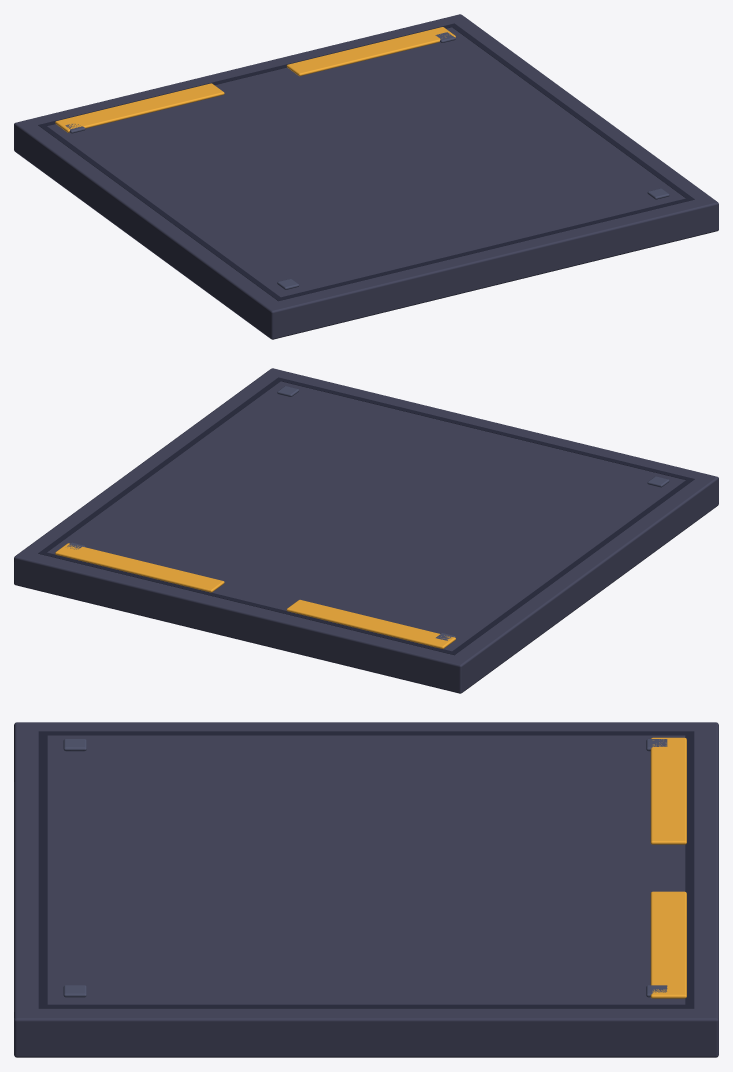
File: floor.plate.WESN+hzdn.glb
The picture shows the model from 3 angles, top to bottom: view 1: azimuth 30°, elevation 25°; view 2: azimuth 150°, elevation 25°; view 3: azimuth 270°, elevation 25°; orthographic projection. The views are drawn at different scales.
Parts seen in each view (by area): view 1: floor.plate.WESN+hzdn; view 2: floor.plate.WESN+hzdn; view 3: floor.plate.WESN+hzdn.
Boxes of the visible parts, bbox=[...] form: floor.plate.WESN+hzdn: bbox=[14, 14, 718, 339]; floor.plate.WESN+hzdn: bbox=[14, 368, 718, 693]; floor.plate.WESN+hzdn: bbox=[14, 722, 718, 1057].
Bounding box in the file's own units: 0.968 × 0.066 × 0.968.
